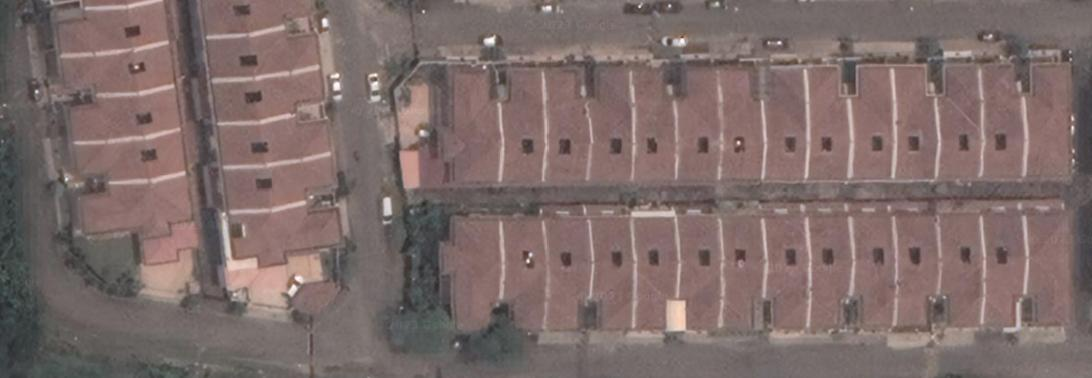building: (76, 171, 201, 266), (429, 57, 503, 192), (228, 200, 341, 273), (439, 213, 502, 331), (222, 151, 342, 212), (71, 127, 191, 187), (206, 21, 325, 77), (215, 111, 333, 167), (67, 83, 184, 139), (209, 67, 325, 123), (57, 41, 177, 95), (586, 59, 635, 185), (540, 220, 594, 334), (632, 59, 679, 185), (54, 3, 170, 54), (763, 61, 811, 184), (937, 61, 985, 183), (1027, 62, 1075, 183), (1026, 211, 1075, 329), (502, 215, 550, 335), (633, 213, 681, 333), (763, 213, 809, 337), (586, 217, 635, 333), (545, 61, 589, 187), (893, 63, 939, 183), (982, 61, 1027, 183), (983, 212, 1029, 331), (502, 61, 545, 188), (851, 63, 895, 187), (807, 64, 852, 185), (808, 215, 852, 338), (937, 213, 982, 333), (679, 62, 722, 186), (720, 62, 763, 185), (724, 210, 768, 329), (896, 213, 939, 334), (851, 216, 893, 335), (679, 213, 719, 329), (197, 1, 319, 35)
